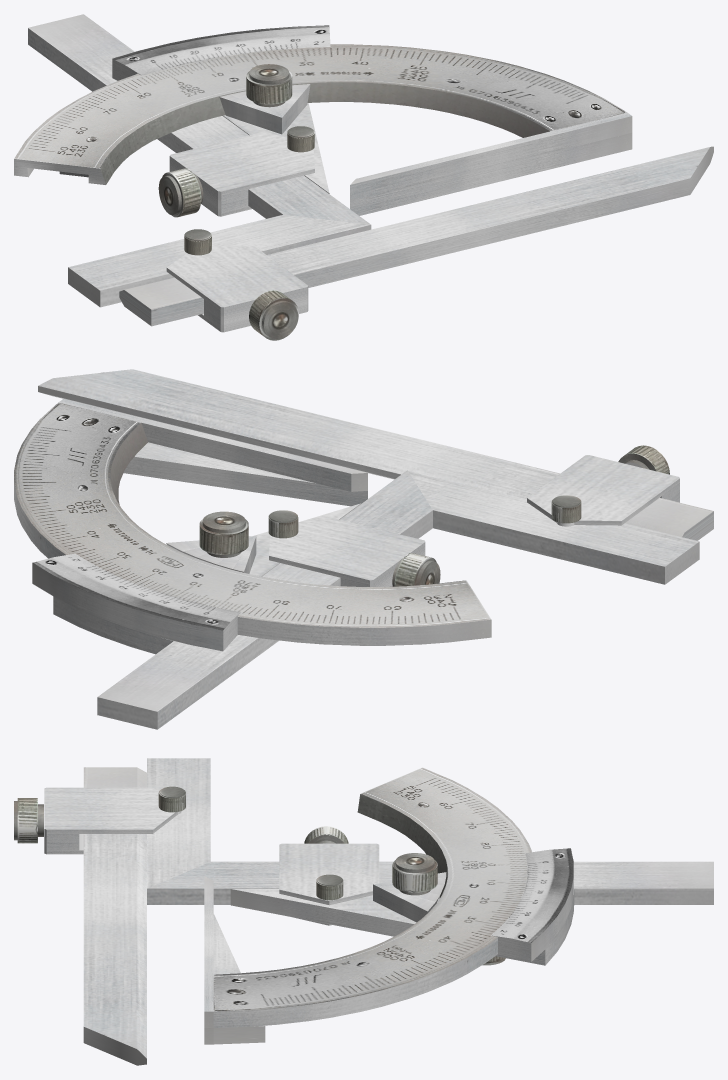
The model's file is liangjiaqi(标准3).FBX.
3 views of the same model, one above another, from view 1: azimuth 30°, elevation 25°; view 2: azimuth 150°, elevation 25°; view 3: azimuth 270°, elevation 25° (orthographic). The views are drawn at different scales.
Visible parts, largest first — view 1: 尺体, 基尺, 直角尺, 制动头, 卡块1, 制动, 制动螺钉2, chedao-05, 定位螺钉, 定位螺钉2; view 2: 尺体, 直角尺, 基尺, 制动头, 卡块1, chedao-05, 制动螺钉2, 制动, 定位螺钉, 定位螺钉2; view 3: 尺体, 制动头, 直角尺, 基尺, 卡块1, chedao-05, 制动, 定位螺钉, 定位螺钉2, 制动螺钉2.
Part boxes in pixels (x1=…): 尺体: x1=14, y1=44, x2=632, y2=215; 基尺: x1=119, y1=146, x2=713, y2=326; 直角尺: x1=28, y1=14, x2=371, y2=307; 制动头: x1=112, y1=25, x2=330, y2=216; 卡块1: x1=166, y1=246, x2=308, y2=332; 制动: x1=249, y1=290, x2=298, y2=340; 制动螺钉2: x1=158, y1=168, x2=203, y2=217; chedao-05: x1=246, y1=64, x2=292, y2=107; 定位螺钉: x1=184, y1=229, x2=211, y2=255; 定位螺钉2: x1=287, y1=126, x2=314, y2=152; 尺体: x1=14, y1=398, x2=491, y2=645; 直角尺: x1=97, y1=470, x2=699, y2=729; 基尺: x1=38, y1=369, x2=713, y2=540; 制动头: x1=32, y1=503, x2=425, y2=654; 卡块1: x1=527, y1=455, x2=679, y2=525; chedao-05: x1=199, y1=511, x2=248, y2=557; 制动螺钉2: x1=392, y1=553, x2=440, y2=586; 制动: x1=618, y1=445, x2=669, y2=474; 定位螺钉: x1=551, y1=495, x2=581, y2=526; 定位螺钉2: x1=268, y1=510, x2=298, y2=538; 尺体: x1=204, y1=767, x2=531, y2=1044; 制动头: x1=230, y1=843, x2=574, y2=965; 直角尺: x1=147, y1=758, x2=713, y2=904; 基尺: x1=83, y1=767, x2=146, y2=1065; 卡块1: x1=44, y1=787, x2=177, y2=854; chedao-05: x1=392, y1=853, x2=437, y2=895; 制动: x1=14, y1=798, x2=43, y2=843; 定位螺钉: x1=158, y1=786, x2=185, y2=814; 定位螺钉2: x1=316, y1=874, x2=343, y2=900; 制动螺钉2: x1=304, y1=826, x2=348, y2=843.
Size of the model in its own units: 154 by 21.74 by 154.
Materials: 2 (2 with a texture image).
